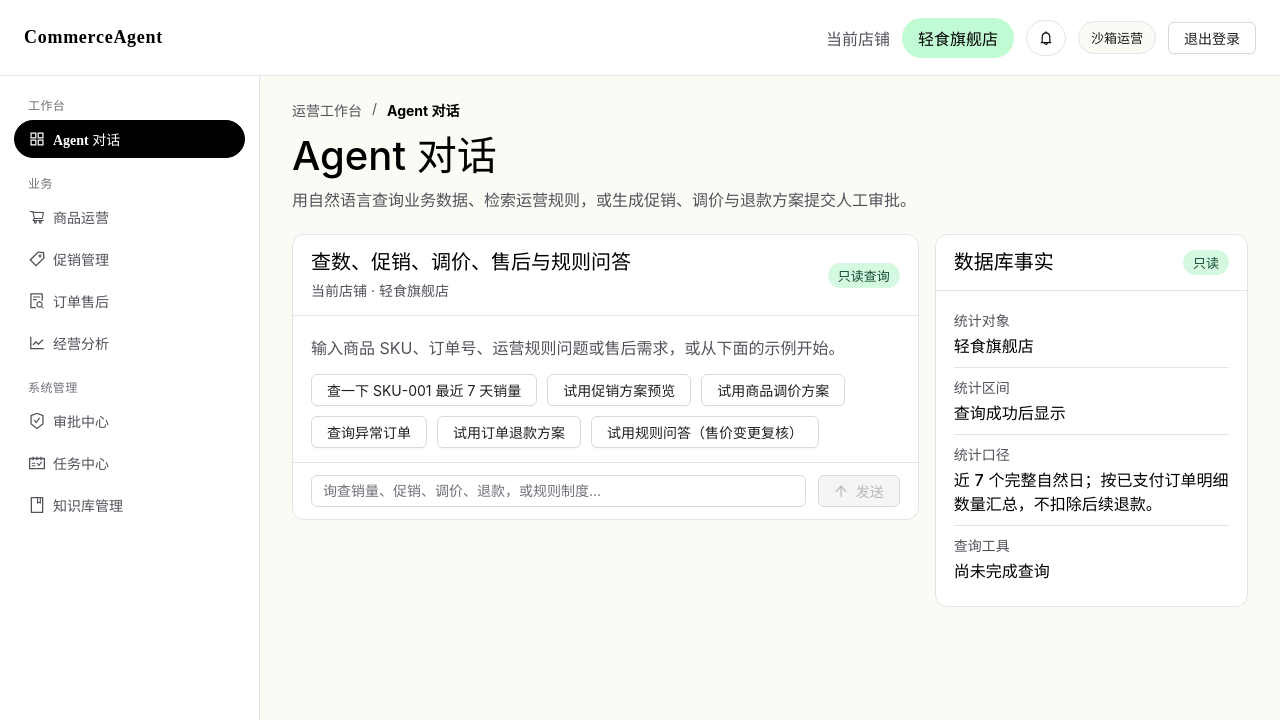
阶段 4 退款、库存并发与售后 Agent › previews refund plan in Agent workspace and confirms approval submission
Type "给 ORD-20261111-01 退 89 元，原因部分商品破损" into the field named "输入查数问题" at (558, 491), box [311,475,806,507]
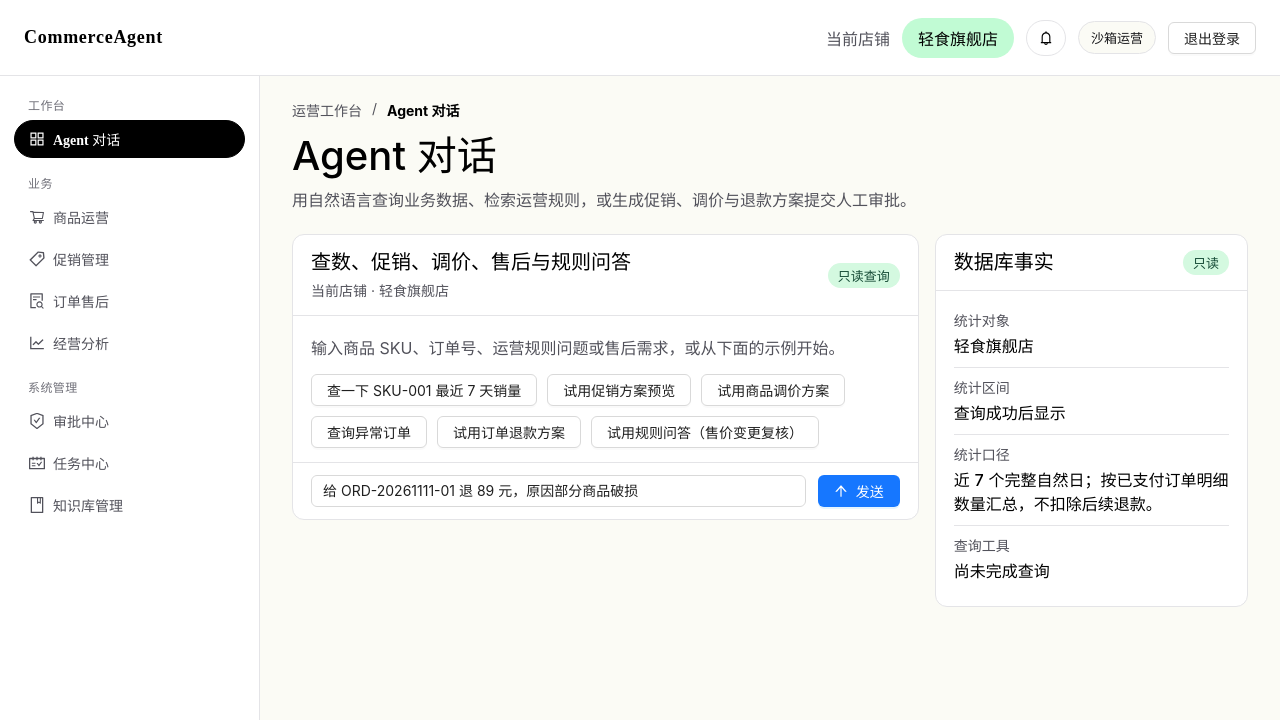
Click the button "发送" at (859, 491), box [818,475,900,507]
(page scrolled)
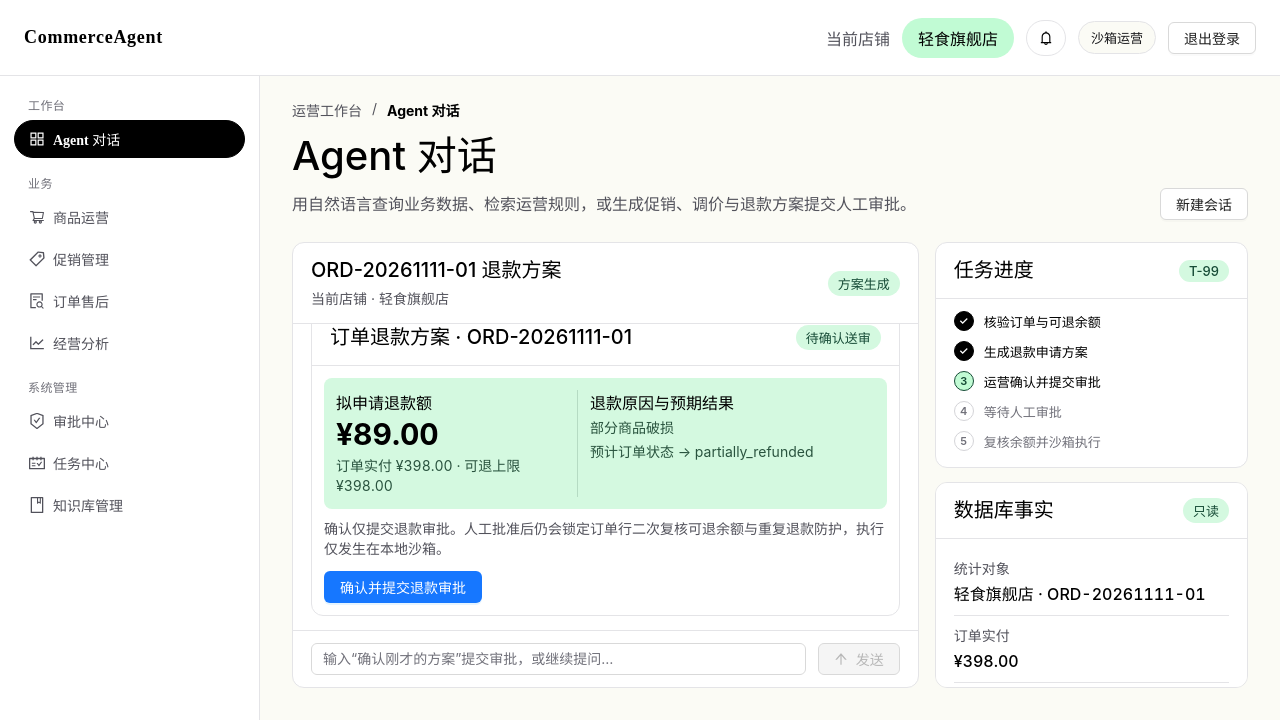
Expected: the heading "订单退款方案 · ORD-20261111-01" is shown, [330,324,632,351]
Click the button "确认并提交退款审批" at (403, 587), box [324,571,482,603]
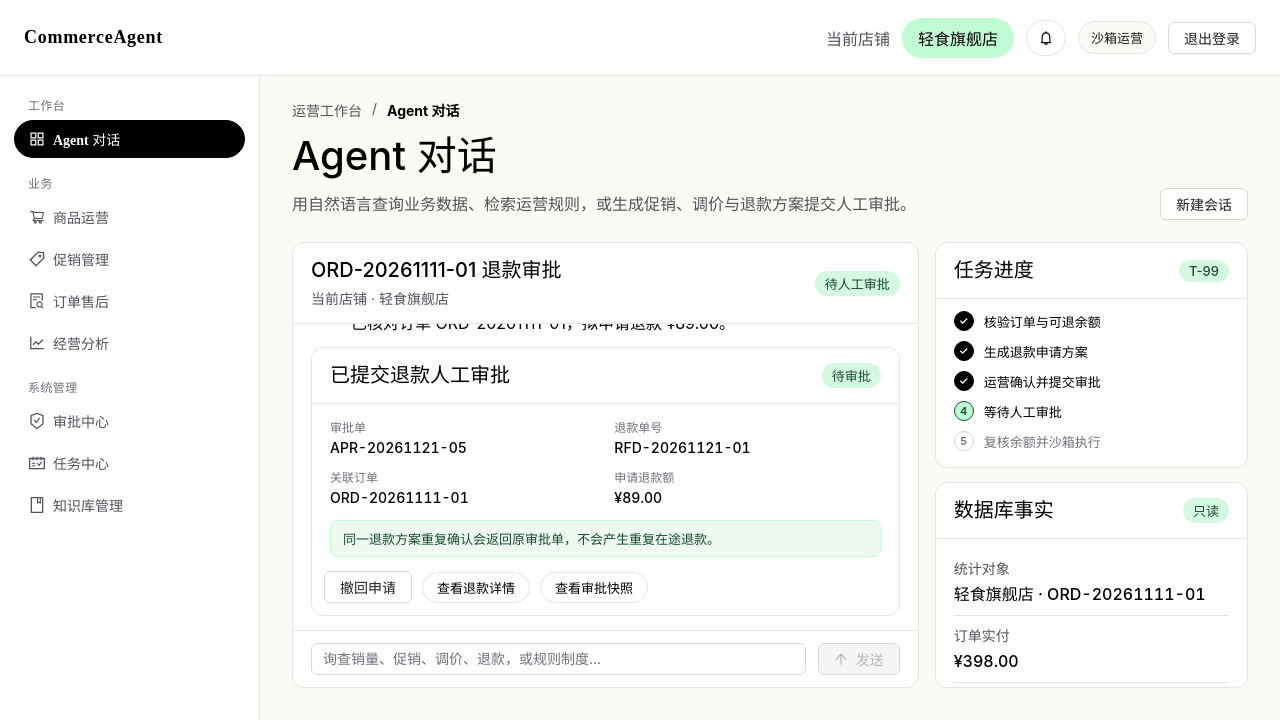
Expected: the text "RFD-20261121-01" is shown, [614,439,751,456]
Expected: the text "APR-20261121-05" is shown, [330,439,467,456]
